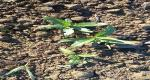osot: (56, 25, 135, 48), (38, 16, 109, 36), (52, 47, 100, 66)
